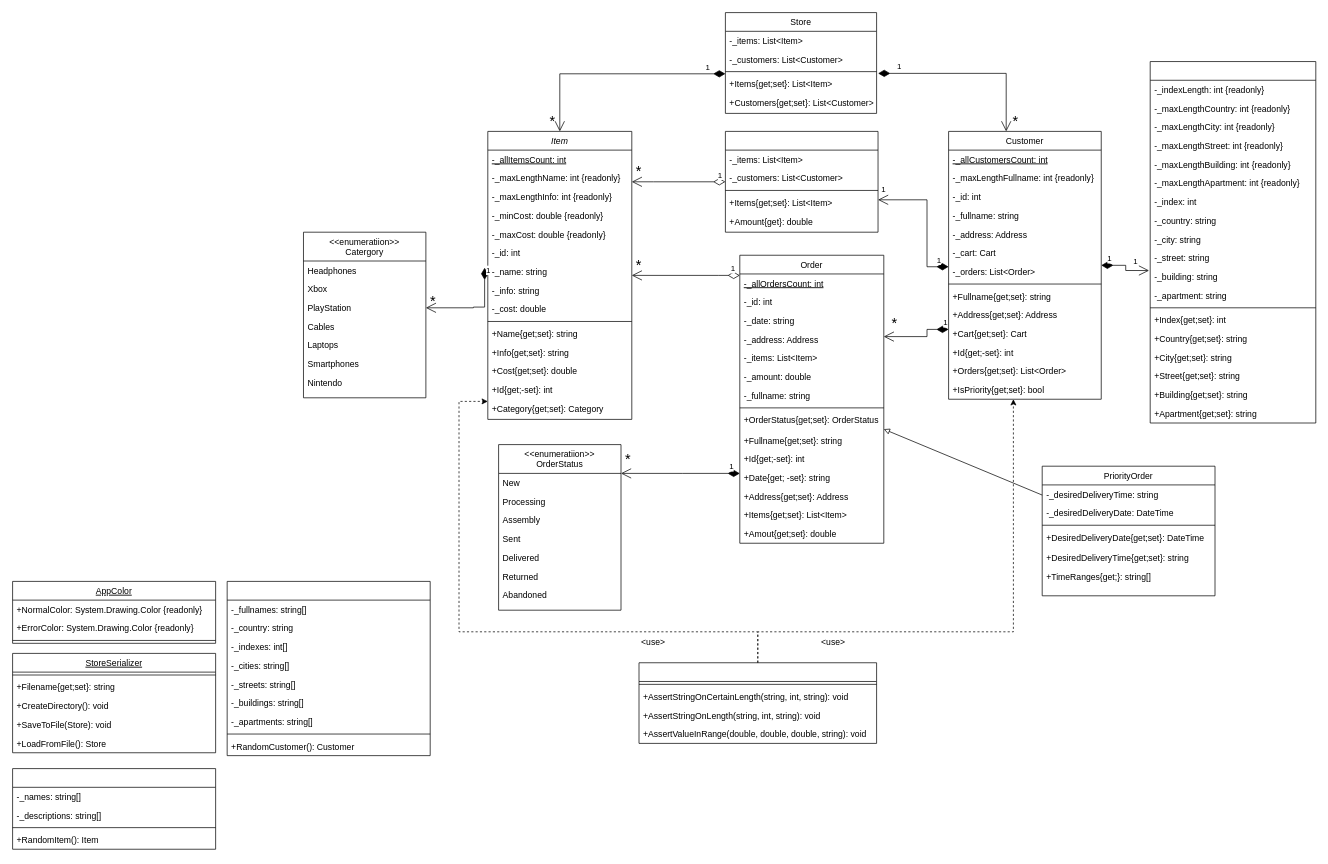
This 1328x864 diagram has some shape labels left out. Each missing label, with the box of its shape:
Address: (1149, 61, 1316, 423)
Cart: (725, 131, 878, 232)
CustomerFactory: (226, 581, 430, 756)
ItemFactory: (12, 768, 216, 849)
ValueValidator: (638, 662, 877, 743)
